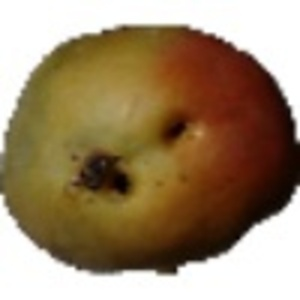mamão: (1, 19, 297, 283)
